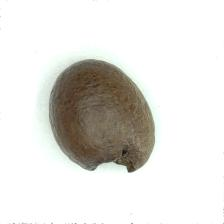NG: (82, 142, 142, 175)
